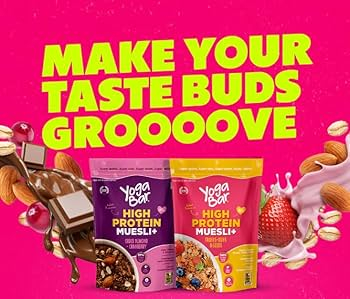Headline: (38, 35, 318, 150)
Product: (80, 153, 269, 294)
logo: (115, 179, 158, 207), (196, 178, 236, 208)
